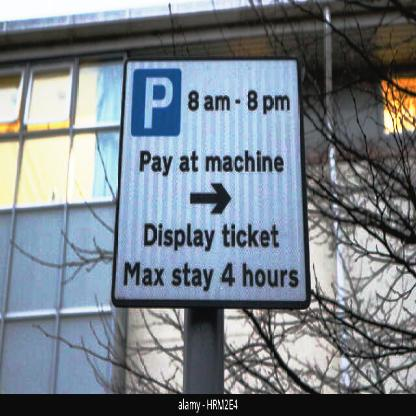Parking: (129, 65, 188, 137)
